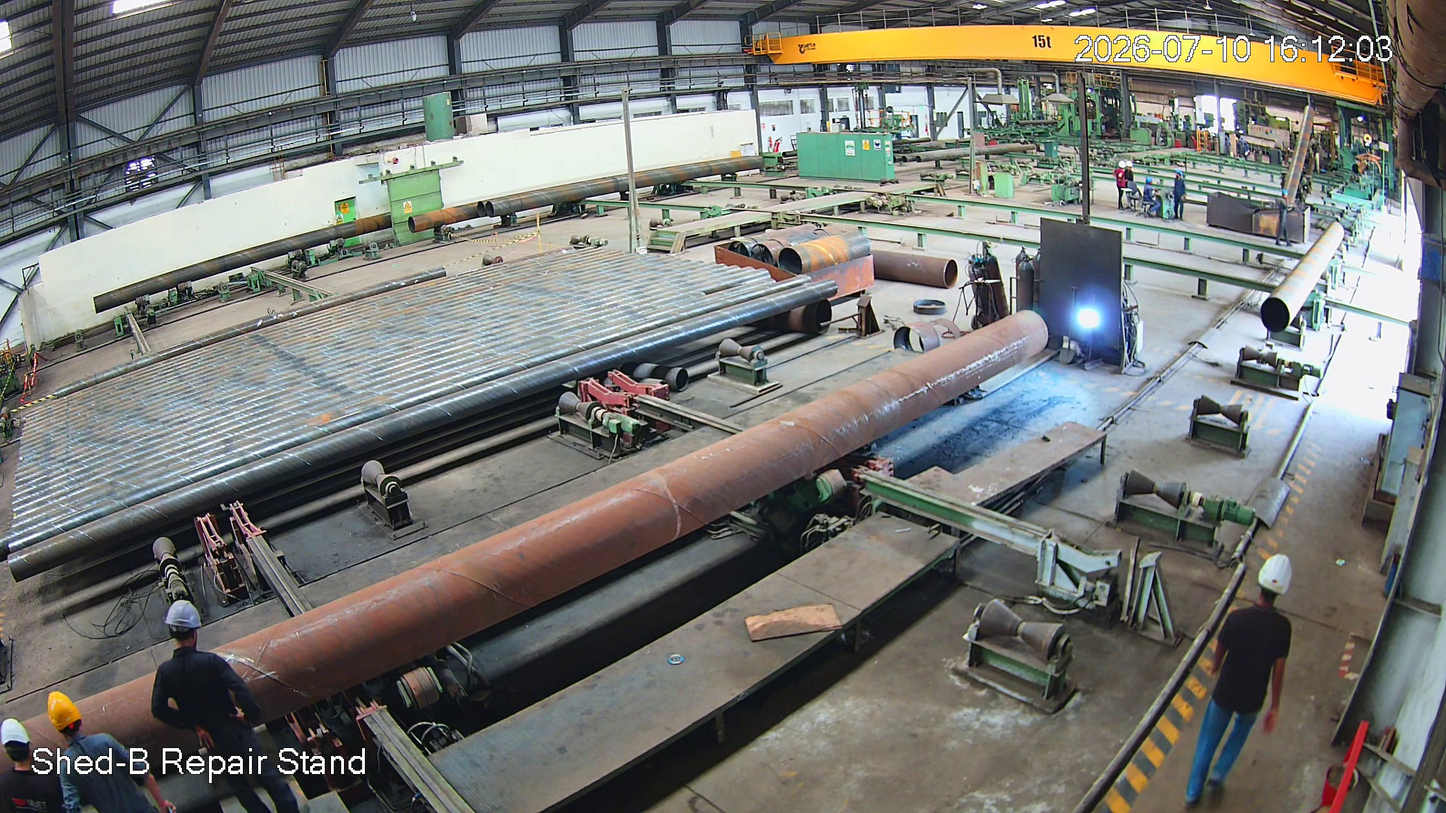Helmet: (1253, 545, 1334, 660), (156, 592, 218, 676), (40, 682, 99, 755)
Person: (1188, 556, 1328, 813), (146, 599, 309, 813), (47, 682, 154, 813)
